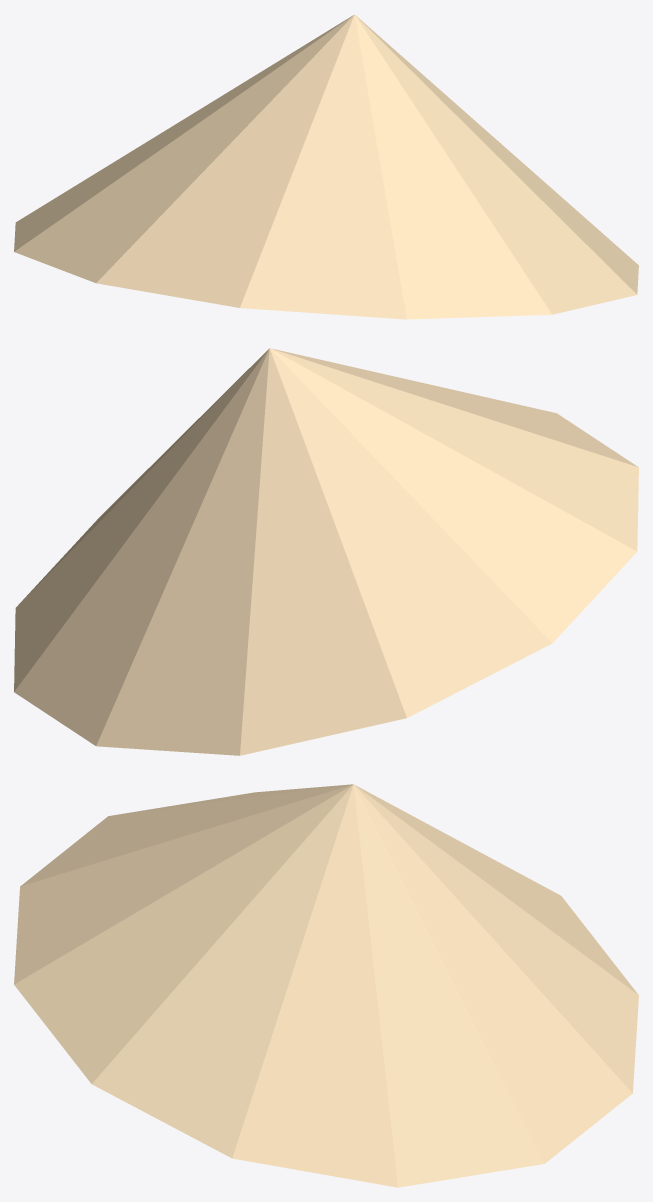
3 views of the same model, one above another, from view 1: azimuth 30°, elevation 25°; view 2: azimuth 150°, elevation 25°; view 3: azimuth 270°, elevation 25° (orthographic). The views are drawn at different scales.
Visible parts, largest first — view 1: group1103314043; view 2: group1103314043; view 3: group1103314043.
Part boxes in pixels (bbox=[...]): group1103314043: bbox=[14, 14, 638, 319]; group1103314043: bbox=[14, 348, 638, 755]; group1103314043: bbox=[14, 784, 638, 1187].
Bounding box in the file's own units: 0.1373 × 0.0744 × 0.1385.
